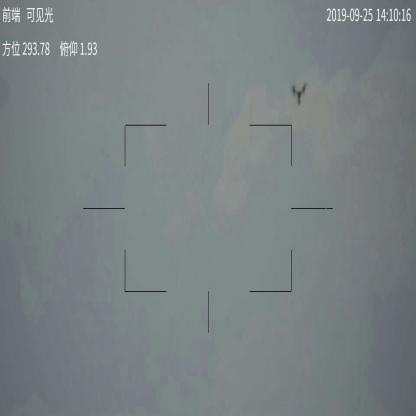uav: (289, 84, 308, 108)
